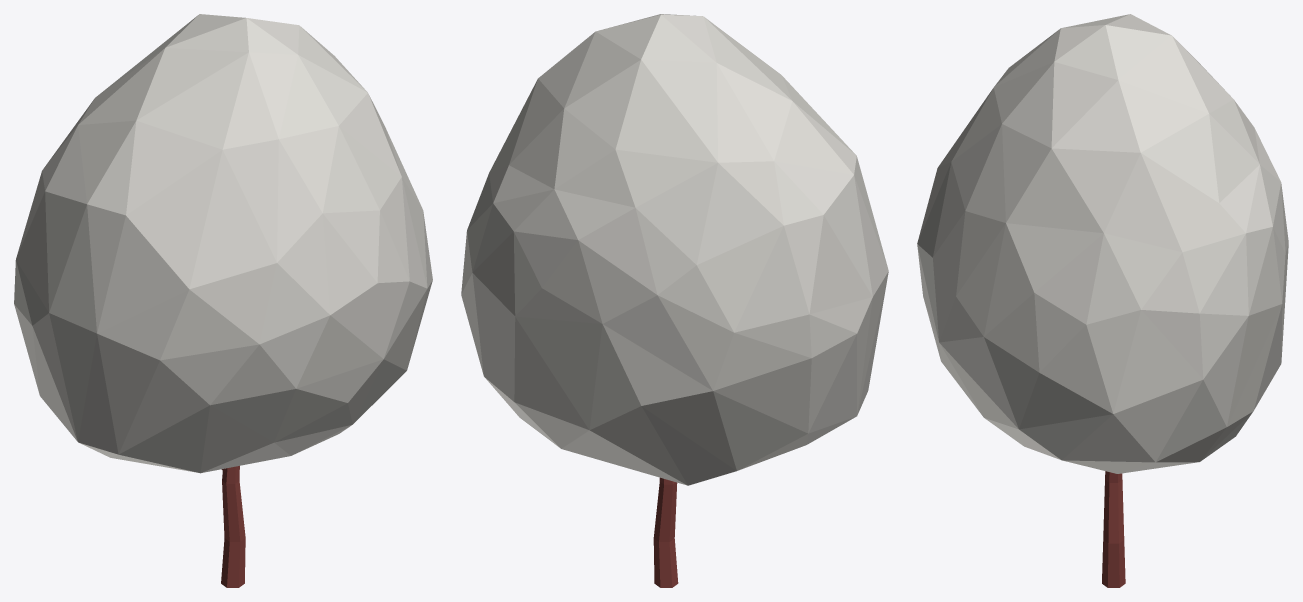
Rendered from Maple_flat.glb.
3 renders of one model, left to right at view 1: azimuth 30°, elevation 25°; view 2: azimuth 150°, elevation 25°; view 3: azimuth 270°, elevation 25°, orthographic.
Parts seen in each view (by area): view 1: Maple green f; view 2: Maple green f; view 3: Maple green f.
Part boxes in pixels (bbox=[...]): Maple green f: bbox=[14, 14, 432, 587]; Maple green f: bbox=[461, 14, 888, 587]; Maple green f: bbox=[917, 14, 1288, 587].
Size of the model in its own units: 8.74 by 12.41 by 7.42.
